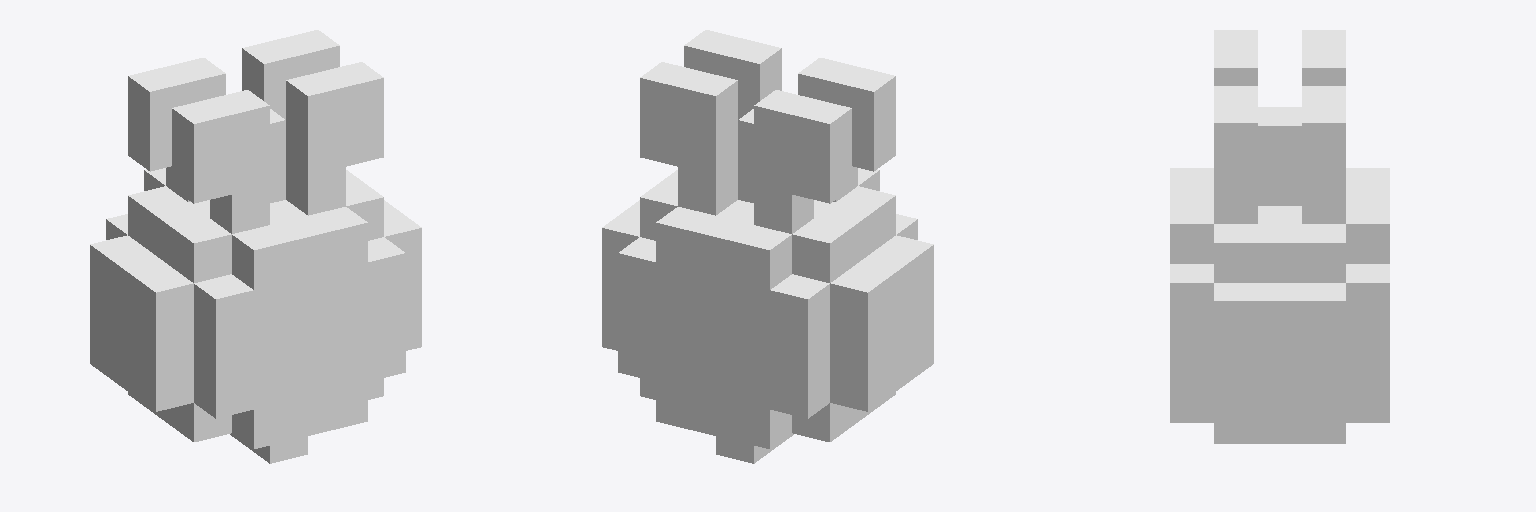
File: kabu.obj
The picture shows the model from 3 angles: view 1: azimuth 30°, elevation 25°; view 2: azimuth 150°, elevation 25°; view 3: azimuth 270°, elevation 25°; orthographic projection.
Parts seen in each view (by area): view 1: object 1; view 2: object 1; view 3: object 1.
Boxes of the visible parts, x1=… form: object 1: x1=90, y1=30, x2=421, y2=463; object 1: x1=602, y1=30, x2=933, y2=463; object 1: x1=1170, y1=30, x2=1389, y2=443.
Bounding box in the file's own units: 0.7 × 0.9 × 0.5.